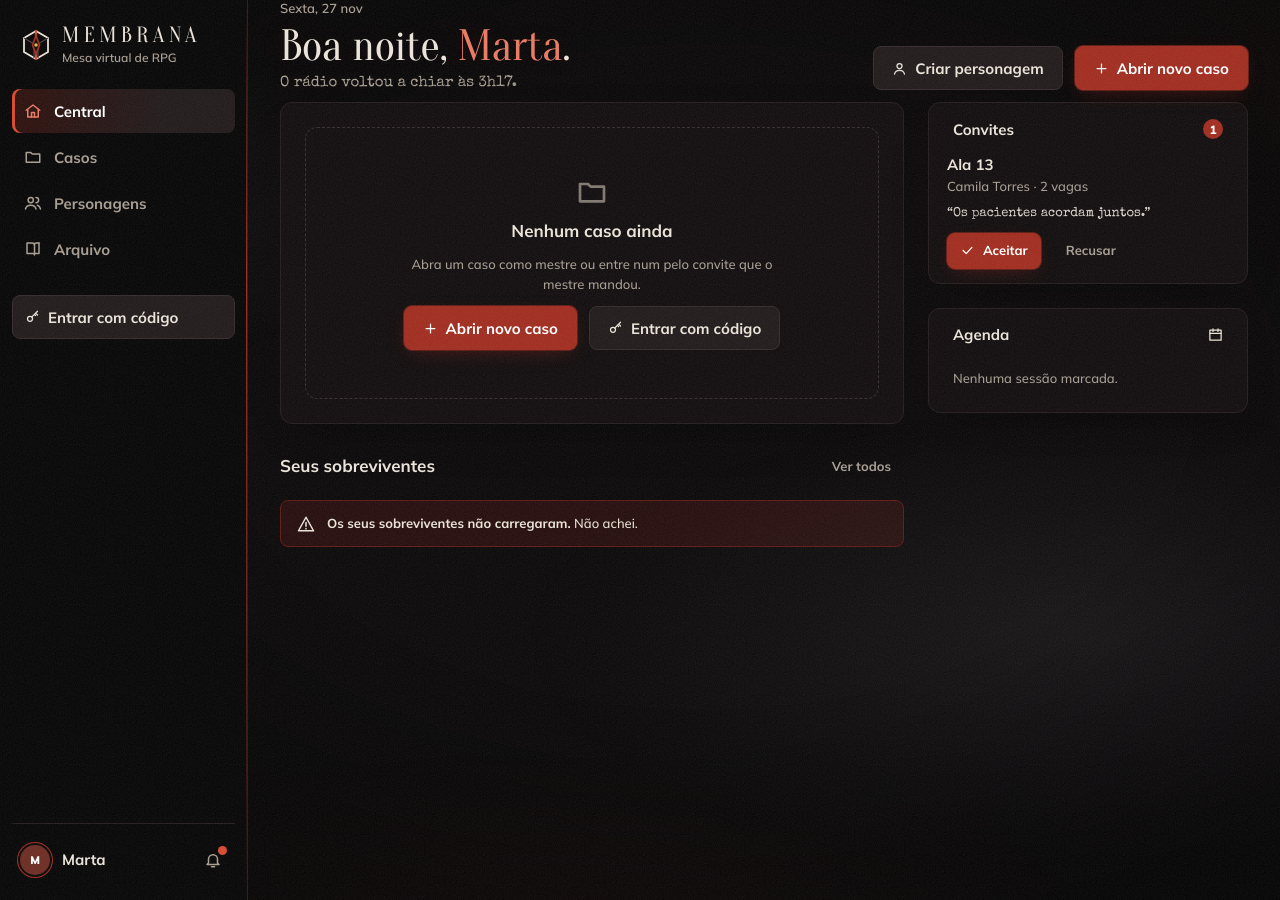
Test case: convites pendentes › aceitar entra no caso, tira o convite da lista e recarrega os casos
Click the button "Aceitar": (994, 251) top-left (947, 233), bottom-right (1041, 269)
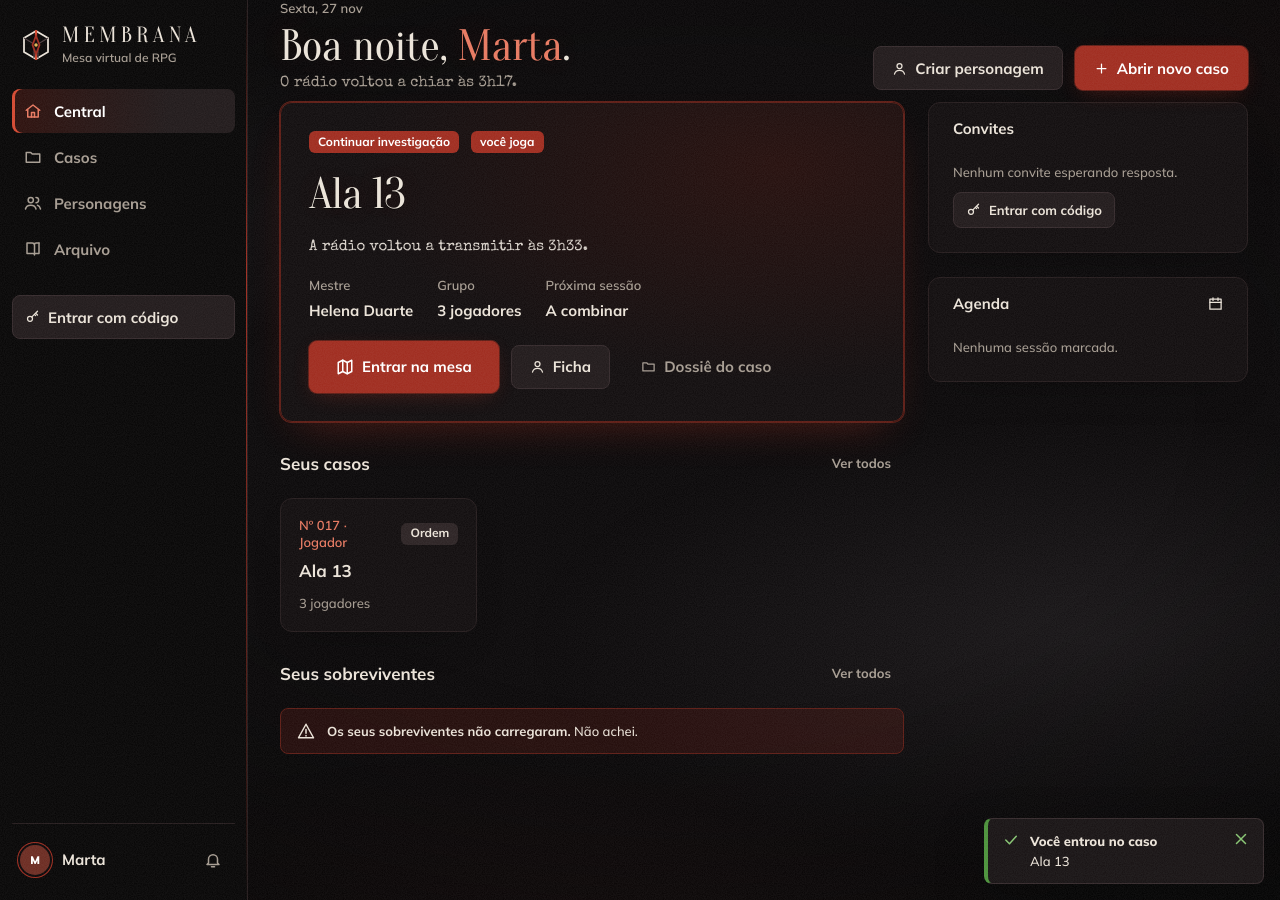
Expected: the text "Você entrou no caso" is shown, top-left (1030, 833), bottom-right (1158, 849)
Expected: the text "Nenhum convite esperando resposta." is shown, top-left (953, 164), bottom-right (1177, 180)
Expected: the element "." is shown, top-left (280, 102), bottom-right (904, 422)
